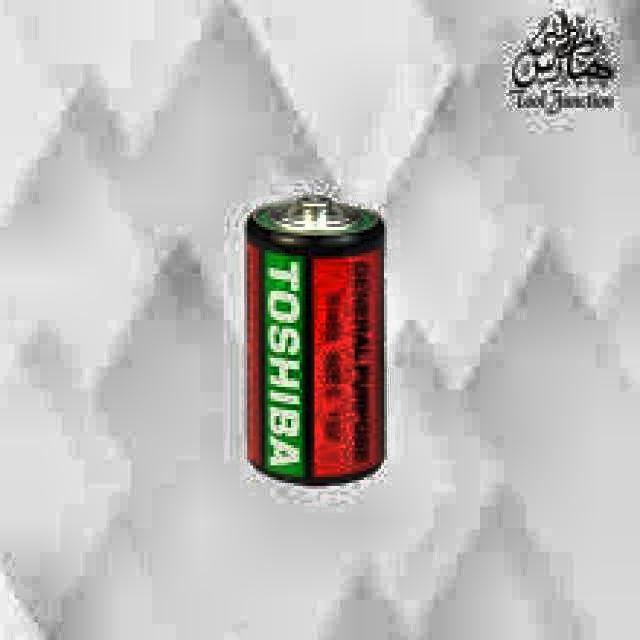battery: (246, 196, 386, 486)
